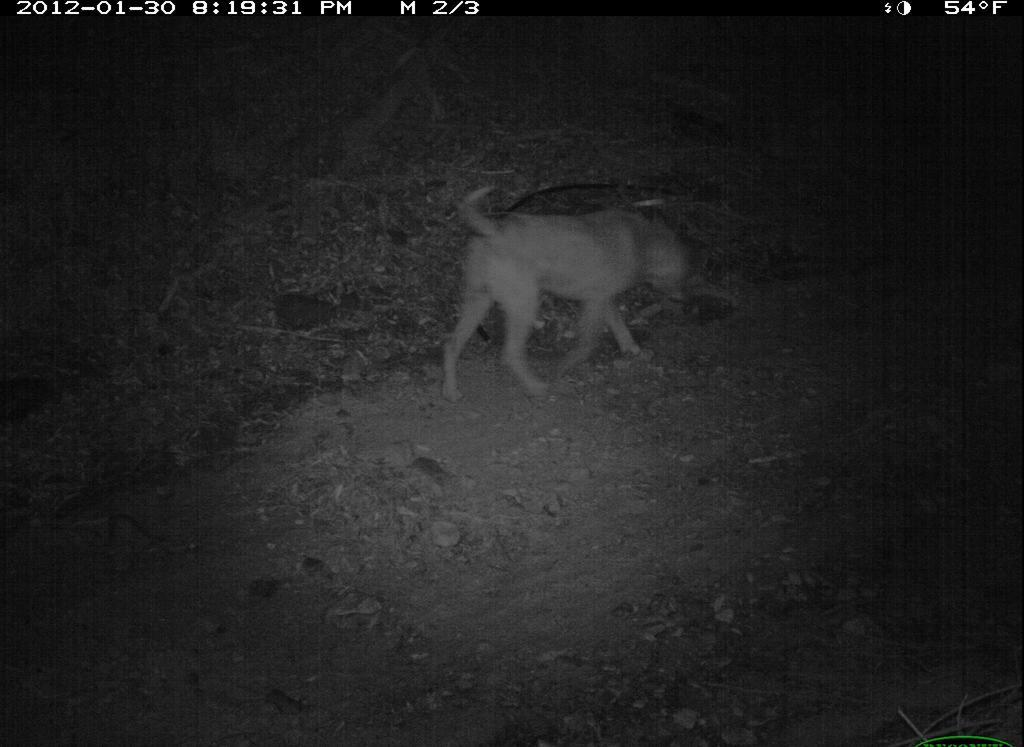dog: (446, 186, 705, 405)
